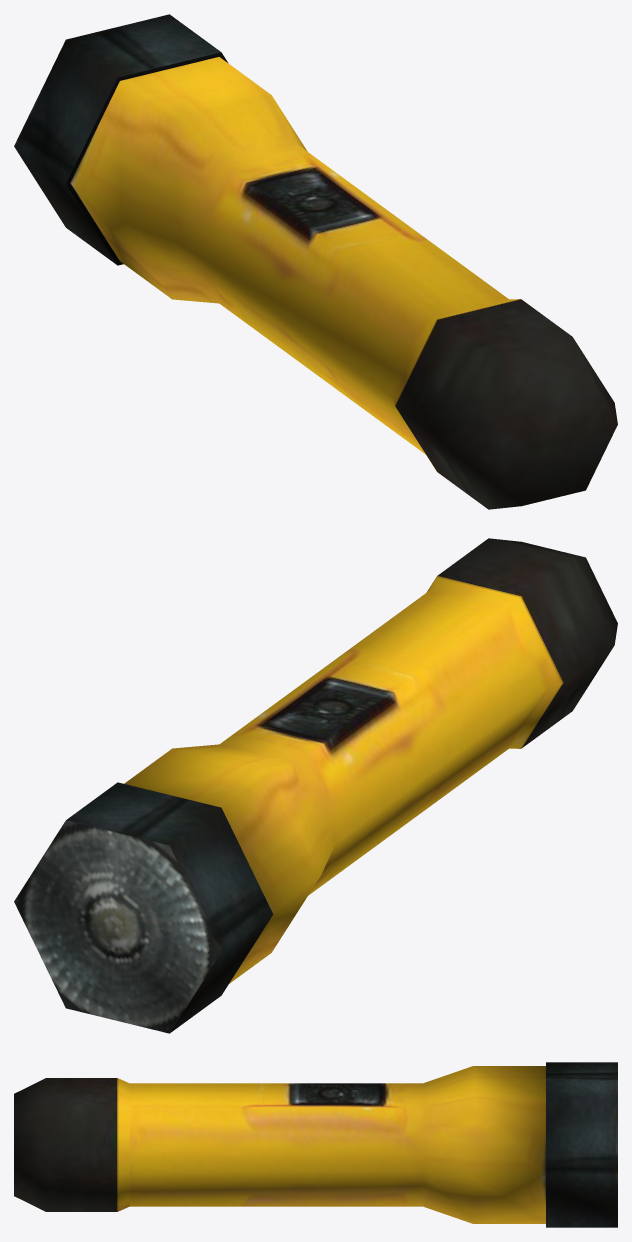
Rendered from Flashlight.fbx.
3 views of the same model, one above another, from view 1: azimuth 30°, elevation 25°; view 2: azimuth 150°, elevation 25°; view 3: azimuth 270°, elevation 25° (orthographic). The views are drawn at different scales.
Parts seen in each view (by area): view 1: Flashlight; view 2: Flashlight; view 3: Flashlight.
Part boxes in pixels (bbox=[...]): Flashlight: bbox=[14, 14, 617, 509]; Flashlight: bbox=[14, 538, 617, 1033]; Flashlight: bbox=[14, 1062, 617, 1227].
Bounding box in the file's own units: 6.78 × 5.87 × 24.69.
1 material, 1 textured.
